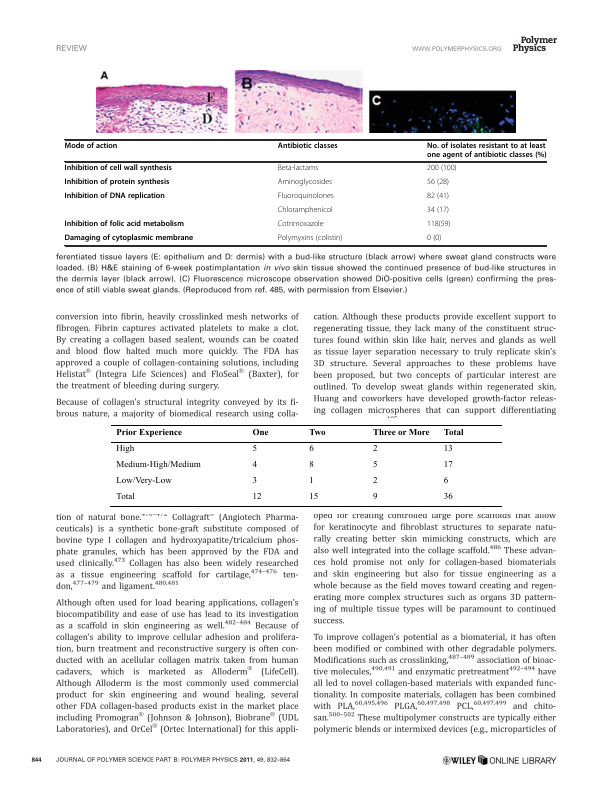borderless: (63, 138, 546, 245), (110, 423, 502, 506)
cell: (426, 142, 547, 160), (64, 234, 194, 244), (64, 220, 185, 230), (64, 164, 173, 174), (64, 178, 170, 188), (64, 192, 166, 202), (115, 460, 201, 470), (115, 427, 182, 437), (277, 234, 343, 244), (371, 427, 430, 437), (277, 192, 335, 202), (115, 476, 172, 486), (277, 178, 333, 188), (277, 206, 333, 216), (277, 142, 339, 151), (64, 142, 118, 151), (277, 220, 324, 230), (277, 164, 319, 174), (426, 164, 457, 174), (426, 220, 451, 230), (426, 178, 450, 188), (426, 192, 450, 202), (426, 206, 450, 216), (442, 427, 464, 437), (115, 444, 135, 454), (115, 492, 135, 502), (251, 427, 269, 437), (308, 427, 326, 437), (426, 234, 442, 244), (442, 444, 453, 454), (442, 460, 453, 470), (251, 492, 262, 502), (308, 492, 319, 502), (442, 492, 453, 502), (371, 444, 378, 454), (371, 460, 378, 470), (371, 476, 378, 486), (442, 476, 449, 486), (371, 492, 378, 502), (251, 444, 257, 454), (308, 444, 314, 454), (251, 460, 257, 470), (308, 460, 314, 470), (251, 476, 257, 486), (308, 476, 314, 486)
